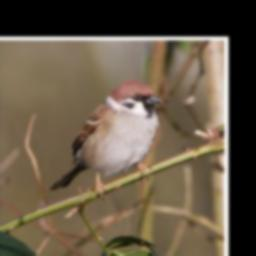Sparrow: (46, 79, 166, 200)
